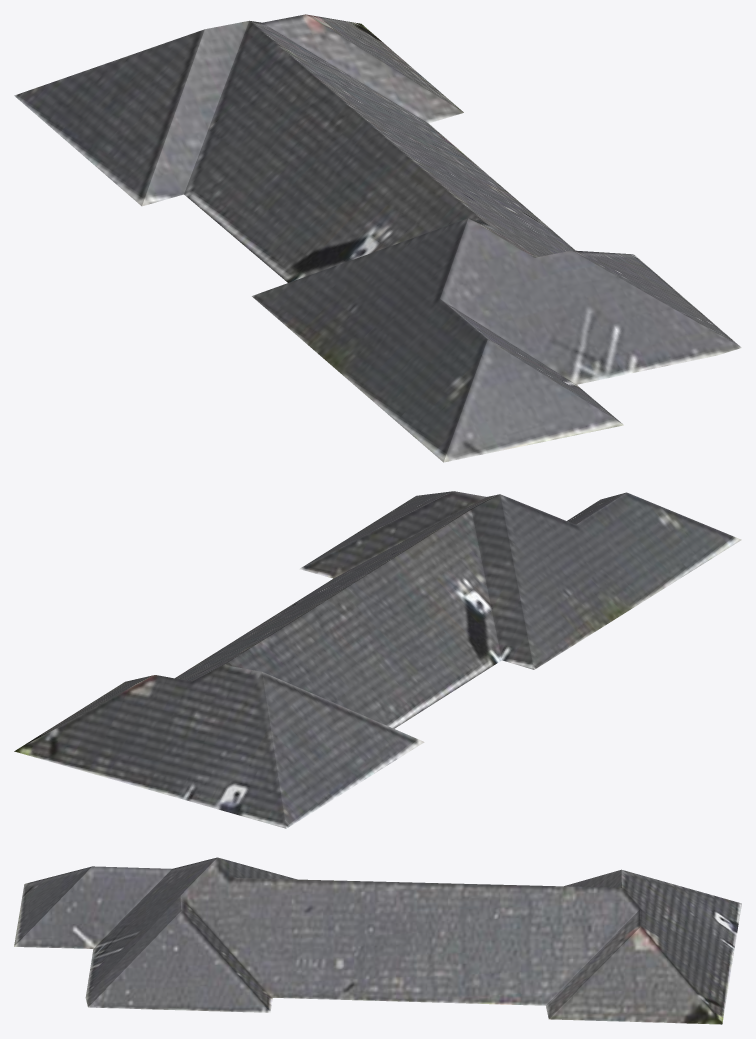
Rendered from CG10_500_040060_0028_roof.obj.
The picture shows the model from 3 angles, top to bottom: view 1: azimuth 30°, elevation 25°; view 2: azimuth 150°, elevation 25°; view 3: azimuth 270°, elevation 25°; orthographic projection. The views are drawn at different scales.
Visible parts, largest first — view 1: CG10_500_040060_0028_roof; view 2: CG10_500_040060_0028_roof; view 3: CG10_500_040060_0028_roof.
Boxes of the visible parts, x1,y1,x2,y2 form: CG10_500_040060_0028_roof: (14, 14, 741, 462); CG10_500_040060_0028_roof: (14, 491, 741, 828); CG10_500_040060_0028_roof: (14, 857, 741, 1024).
Size of the model in its own units: 255 by 70 by 559.
Materials: 1 (1 with a texture image).
